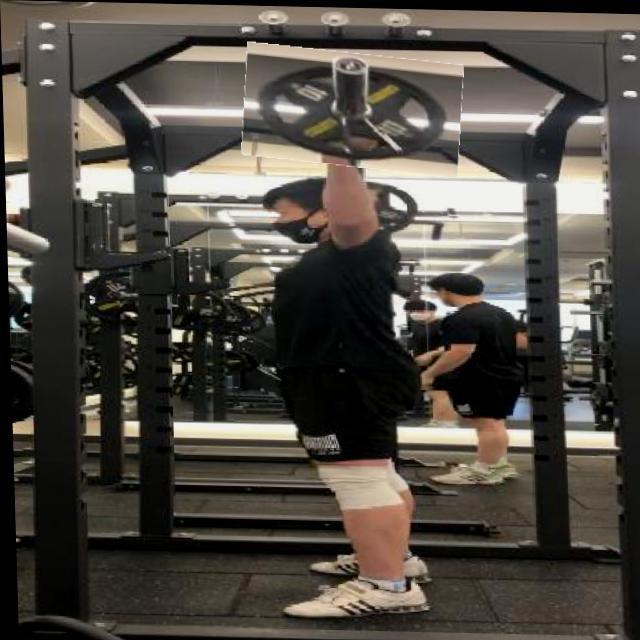barbell: (242, 46, 465, 171)
